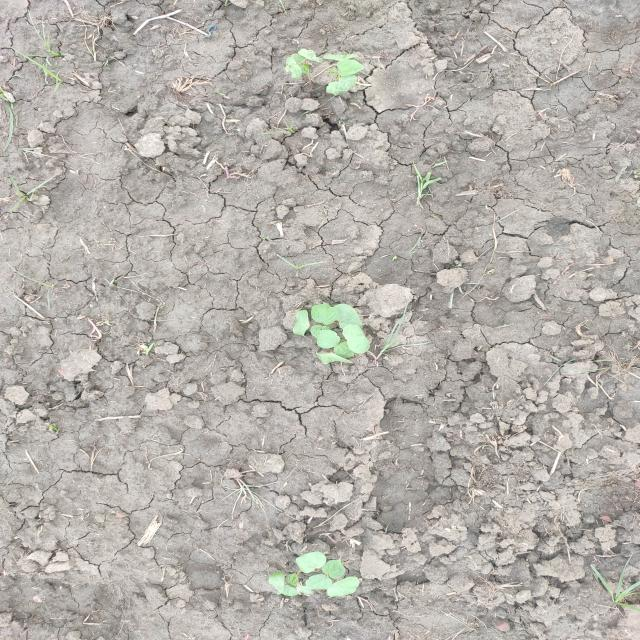seedling_s4: (342, 324, 370, 353), (334, 303, 362, 328), (326, 75, 357, 96), (296, 552, 327, 573), (327, 577, 359, 597), (311, 303, 338, 325), (315, 352, 352, 365), (316, 330, 341, 349), (293, 310, 310, 337), (321, 560, 345, 579), (305, 574, 333, 590), (338, 59, 363, 76), (268, 571, 285, 594), (284, 57, 302, 78), (298, 49, 324, 63), (334, 341, 355, 357), (310, 325, 330, 338), (324, 54, 358, 60), (282, 585, 299, 596), (286, 572, 299, 586), (291, 54, 306, 65), (297, 586, 312, 594)
